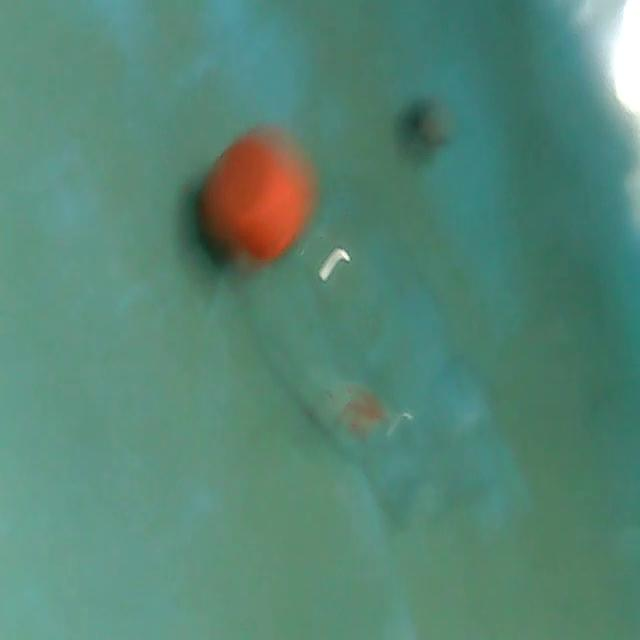plastic bottle: (180, 115, 557, 554)
